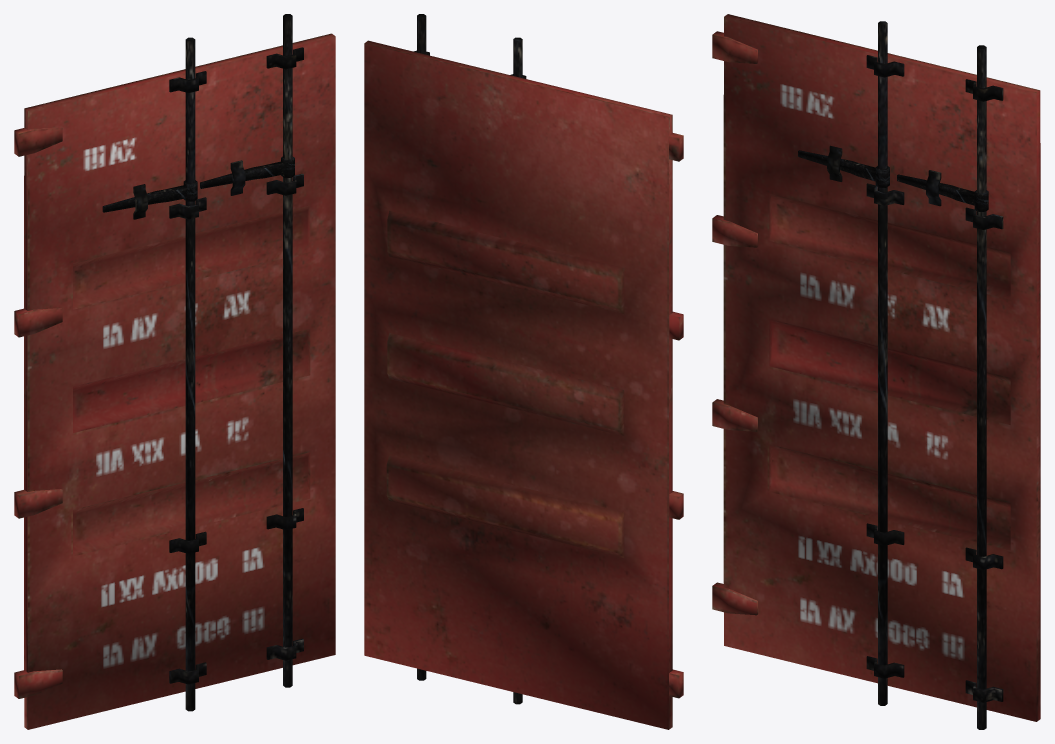
Rendered from Door_B.fbx.
3 views of the same model, side by side, from view 1: azimuth 30°, elevation 25°; view 2: azimuth 150°, elevation 25°; view 3: azimuth 330°, elevation 25° (orthographic). The views are drawn at different scales.
Visible parts, largest first — view 1: Door_B; view 2: Door_B; view 3: Door_B.
Boxes of the visible parts, x1=… form: Door_B: x1=14, y1=14, x2=335, y2=729; Door_B: x1=364, y1=14, x2=683, y2=729; Door_B: x1=712, y1=14, x2=1040, y2=729.
Bounding box in the file's own units: 1.98 × 3.99 × 0.1447.
